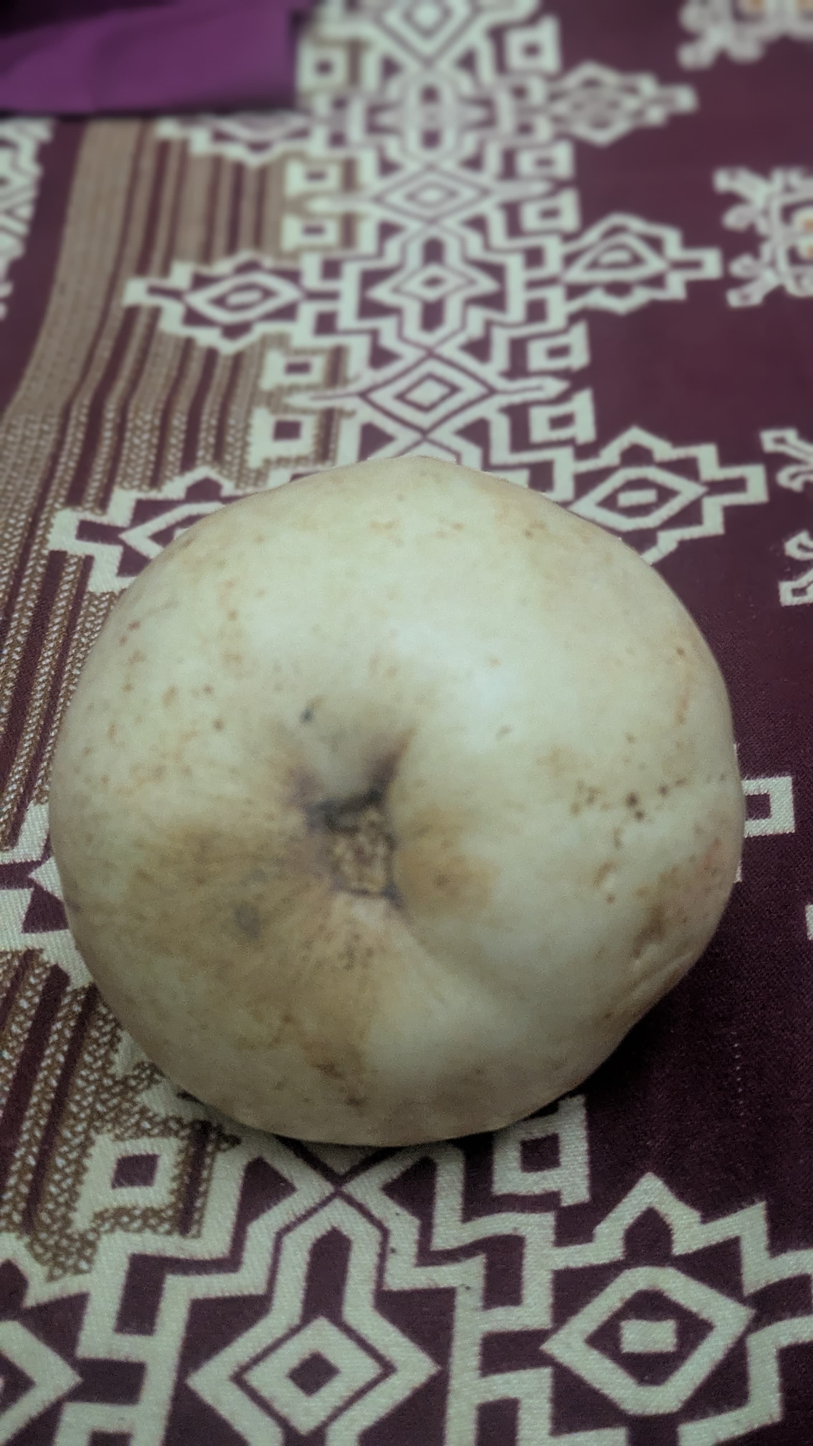guava: (150, 118, 701, 1078)
